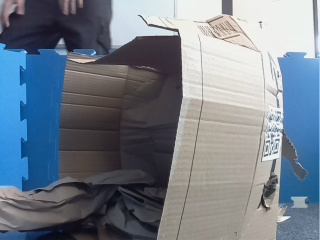caja_rota: (41, 27, 284, 240)
